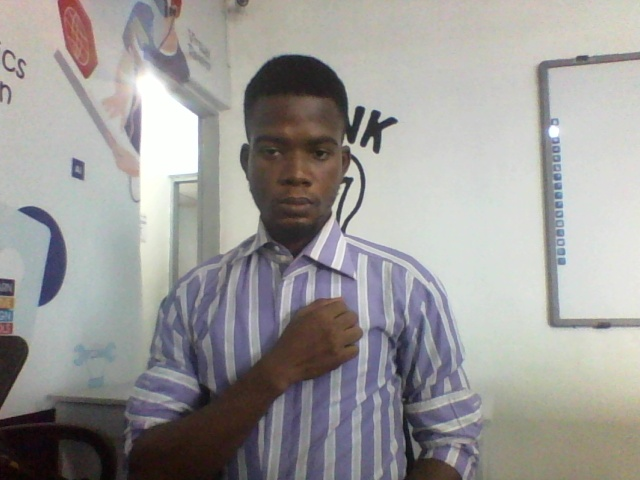sorry: (187, 289, 361, 415)
